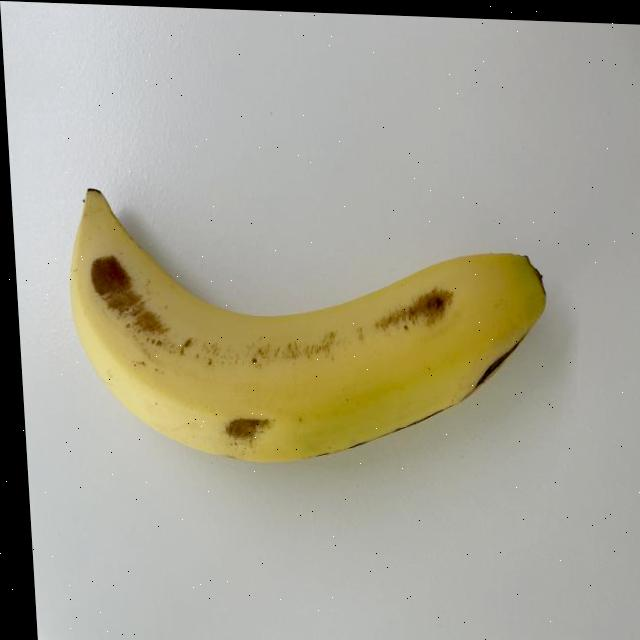banana: (61, 184, 557, 471)
